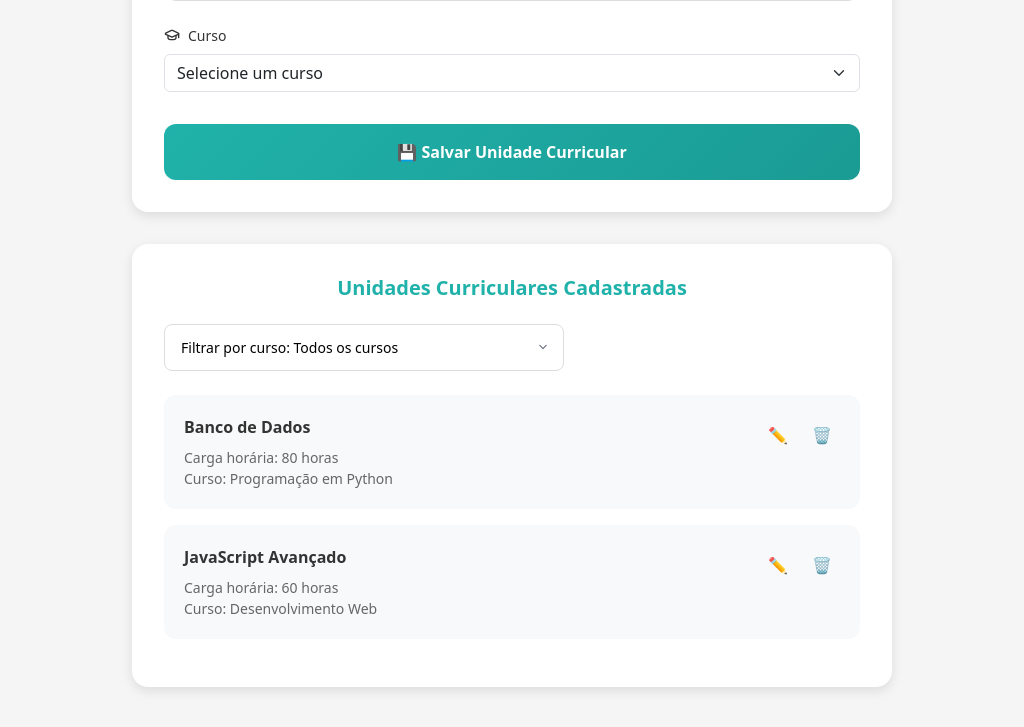
Test: UcsRegistrationPage › abre dialog de confirmação ao clicar em excluir
The width and height of the screenshot is (1024, 727).
(page scrolled)
Step 1. Click the button titled "Excluir" in the row of "Banco de Dados" → (822, 435), box [804, 415, 840, 455]
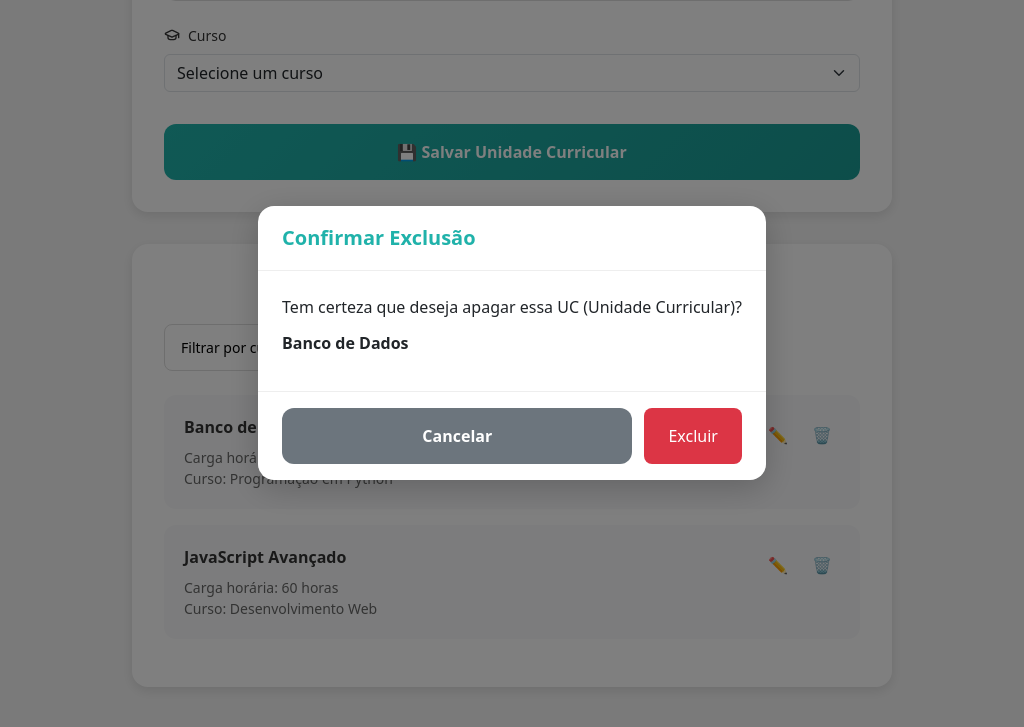
expect the heading "Confirmar Exclusão" is shown: met, box [282, 226, 476, 250]
expect the text "Tem certeza que deseja apagar essa UC (Unidade Curricular)?" is shown: met, box [282, 295, 742, 319]
